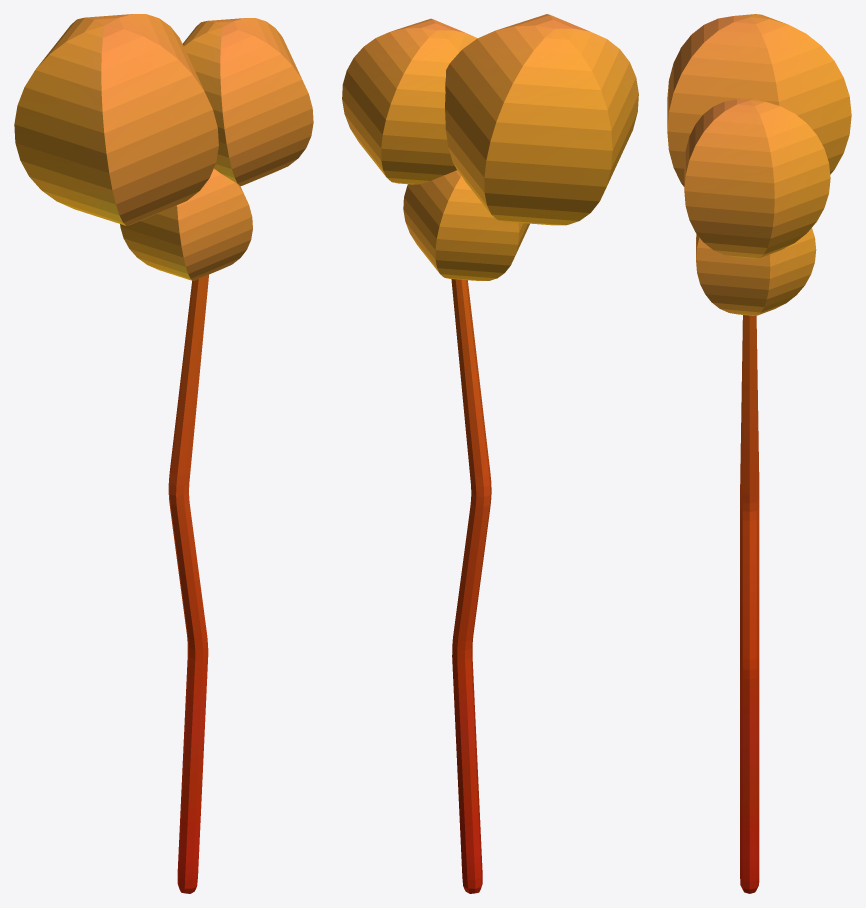
The model's file is Tree_11.fbx.
3 views of the same model, side by side, from view 1: azimuth 30°, elevation 25°; view 2: azimuth 150°, elevation 25°; view 3: azimuth 270°, elevation 25° (orthographic). The views are drawn at different scales.
Visible parts, largest first — view 1: Tree_11; view 2: Tree_11; view 3: Tree_11.
Part boxes in pixels (x1=…): Tree_11: x1=14, y1=14, x2=313, y2=893; Tree_11: x1=342, y1=14, x2=638, y2=893; Tree_11: x1=667, y1=14, x2=851, y2=893.
Size of the model in its own units: 139 by 431 by 85.84.
Materials: 1 (1 with a texture image).
